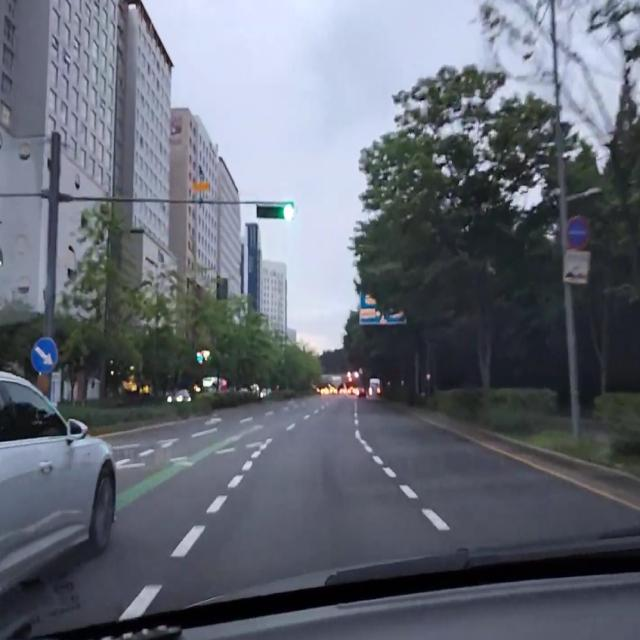Green Light: (282, 203, 295, 221)
